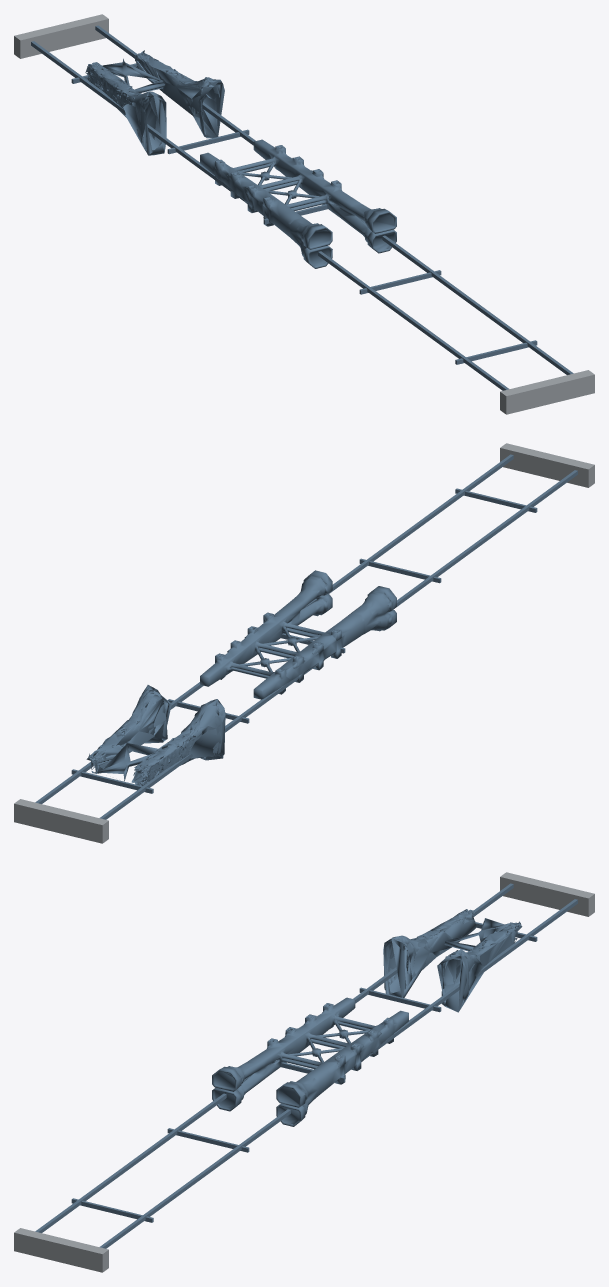
The model's file is MandelaBridge_Structure.fbx.
The picture shows the model from 3 angles, top to bottom: view 1: azimuth 30°, elevation 25°; view 2: azimuth 150°, elevation 25°; view 3: azimuth 330°, elevation 25°; orthographic projection.
Visible parts, largest first — view 1: MandelaBridge_MainPylon, MandelaBridge_SecondaryPylon, MandelaBridge_UndersideBeam_L, MandelaBridge_Abutment_Start, MandelaBridge_Abutment_End, MandelaBridge_UndersideBeam_R; view 2: MandelaBridge_MainPylon, MandelaBridge_SecondaryPylon, MandelaBridge_UndersideBeam_L, MandelaBridge_Abutment_End, MandelaBridge_Abutment_Start, MandelaBridge_UndersideBeam_R; view 3: MandelaBridge_MainPylon, MandelaBridge_SecondaryPylon, MandelaBridge_UndersideBeam_R, MandelaBridge_Abutment_Start, MandelaBridge_Abutment_End, MandelaBridge_UndersideBeam_L.
Part boxes in pixels (x1,y1,x2,y2): MandelaBridge_MainPylon: (200,139,396,268); MandelaBridge_SecondaryPylon: (85,50,224,155); MandelaBridge_UndersideBeam_L: (31,41,509,390); MandelaBridge_Abutment_Start: (500,370,594,414); MandelaBridge_Abutment_End: (14,14,108,58); MandelaBridge_UndersideBeam_R: (95,25,573,374); MandelaBridge_MainPylon: (200,570,396,699); MandelaBridge_SecondaryPylon: (86,685,225,785); MandelaBridge_UndersideBeam_L: (99,470,577,819); MandelaBridge_Abutment_End: (14,799,108,843); MandelaBridge_Abutment_Start: (500,443,594,487); MandelaBridge_UndersideBeam_R: (35,454,513,803); MandelaBridge_MainPylon: (212,997,408,1126); MandelaBridge_SecondaryPylon: (383,909,522,1012); MandelaBridge_UndersideBeam_R: (99,899,577,1248); MandelaBridge_Abutment_Start: (14,1228,108,1272); MandelaBridge_Abutment_End: (500,872,594,916); MandelaBridge_UndersideBeam_L: (35,883,513,1232).
Size of the model in its own units: 16.1 by 10.39 by 154.
